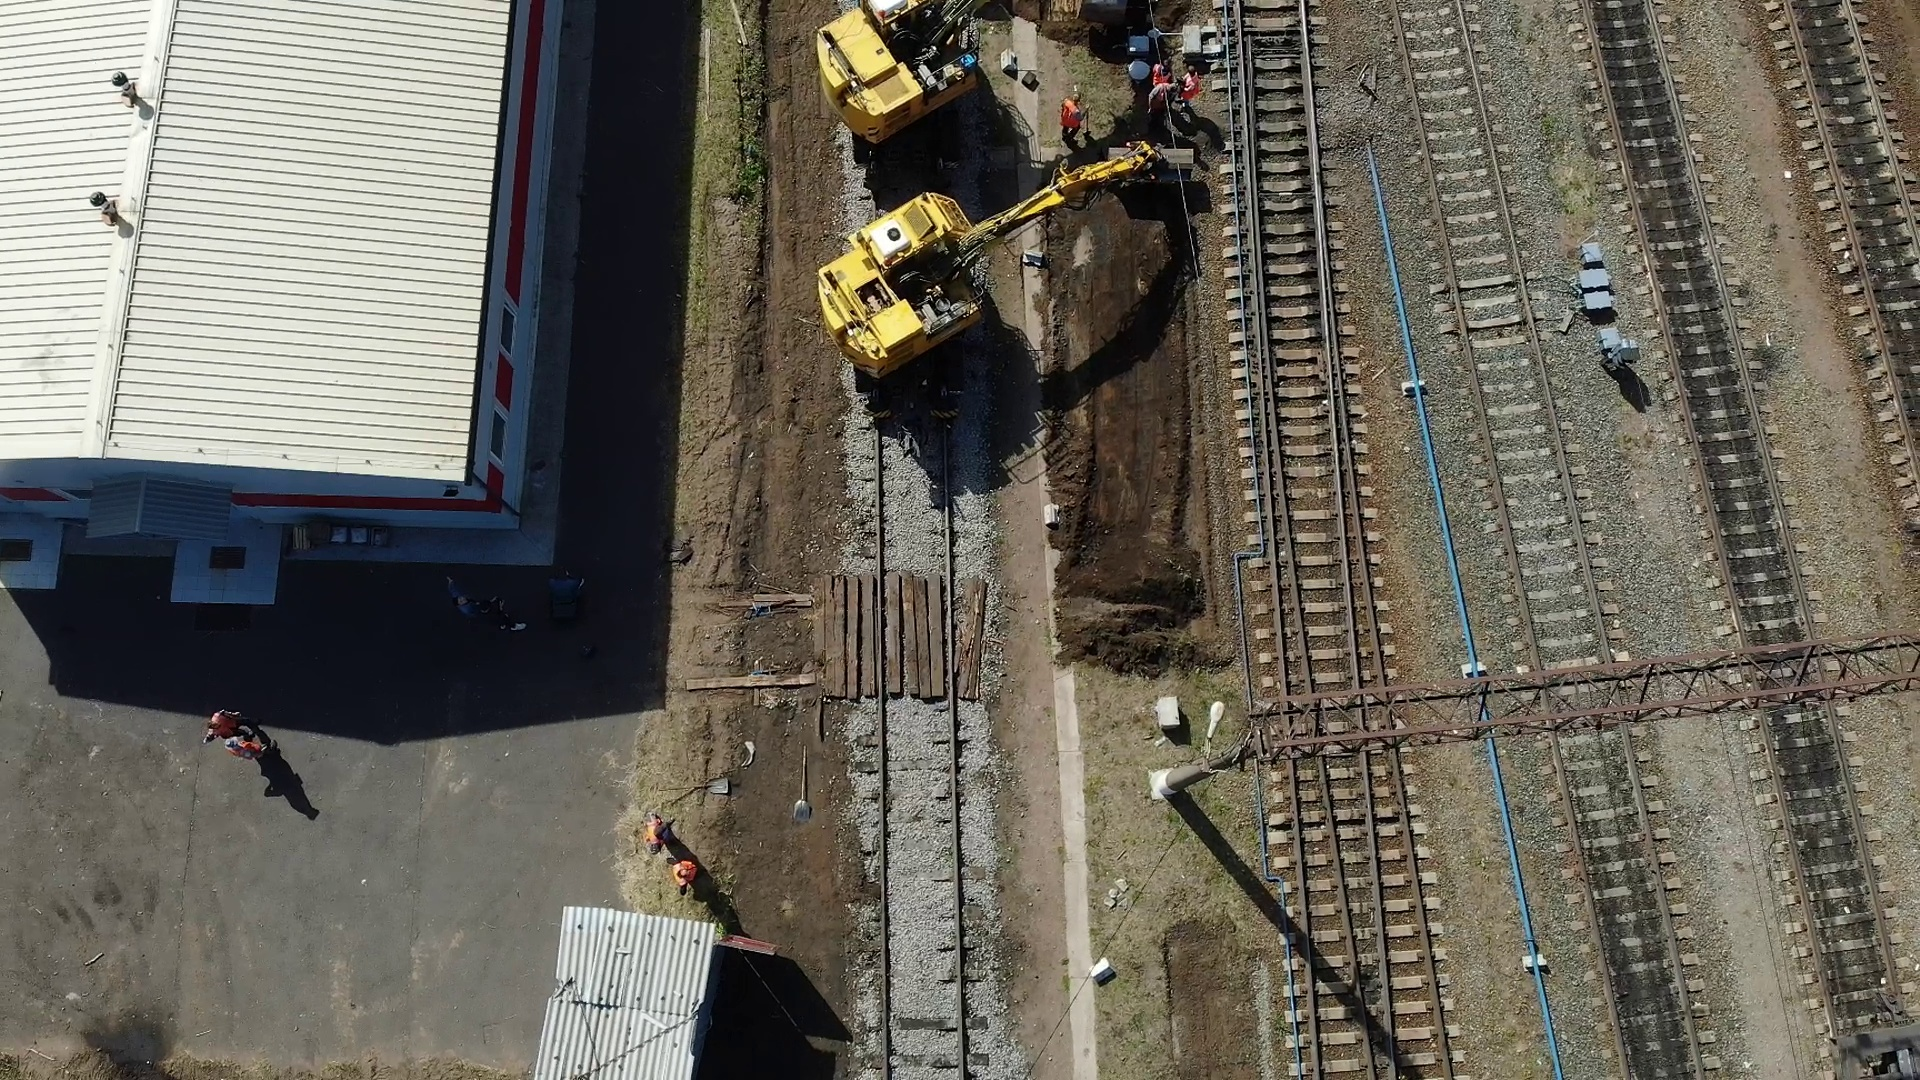kjtv: (822, 190, 1062, 411), (818, 1, 986, 150)
